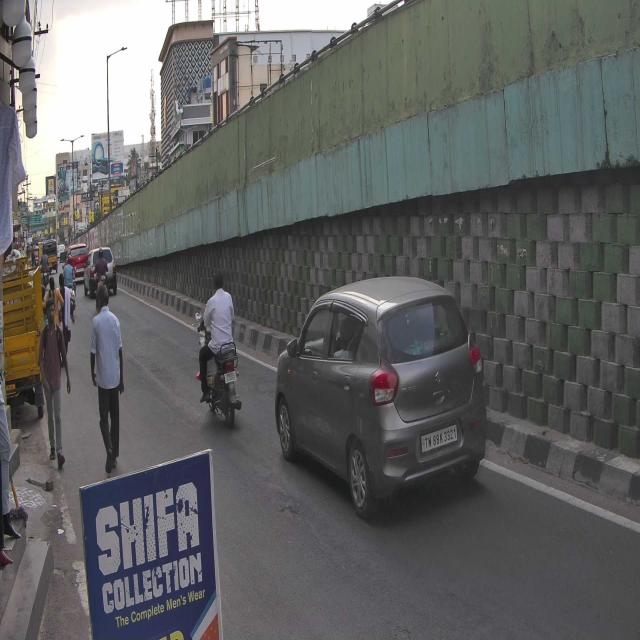single_rider: (194, 266, 245, 432)
